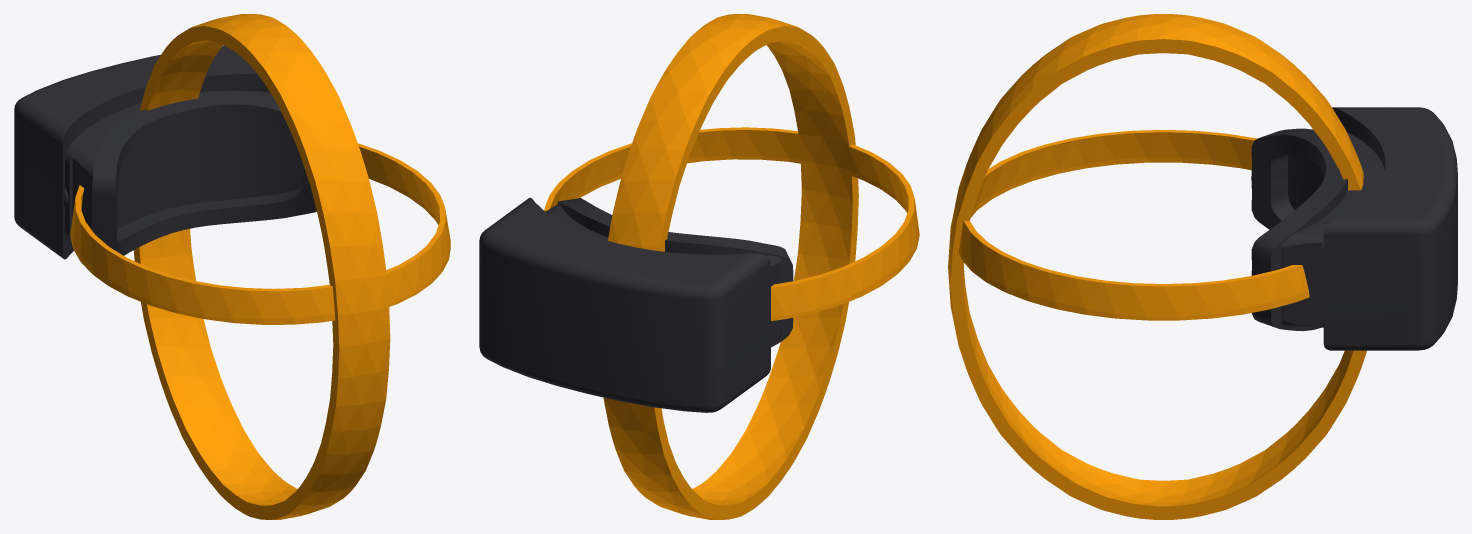
Rendered from Headset.dae.
The picture shows the model from 3 angles, left to right: view 1: azimuth 30°, elevation 25°; view 2: azimuth 150°, elevation 25°; view 3: azimuth 270°, elevation 25°; orthographic projection. The views are drawn at different scales.
Parts seen in each view (by area): view 1: Icosphere, generic_hmd, Icosphere.001; view 2: generic_hmd, Icosphere, Icosphere.001; view 3: generic_hmd, Icosphere, Icosphere.001.
Part boxes in pixels (left/top/right/bottom): Icosphere: left=133, top=14, right=390, bottom=519; generic_hmd: left=14, top=45, right=316, bottom=259; Icosphere.001: left=70, top=143, right=450, bottom=324; generic_hmd: left=479, top=197, right=793, bottom=412; Icosphere: left=603, top=14, right=858, bottom=519; Icosphere.001: left=544, top=127, right=919, bottom=320; generic_hmd: left=1251, top=107, right=1457, bottom=350; Icosphere: left=948, top=14, right=1366, bottom=519; Icosphere.001: left=959, top=130, right=1309, bottom=320.
Bounding box in the file's own units: 0.2569 × 0.3455 × 0.3646.
